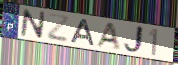1: (148, 28, 159, 57)
A: (69, 18, 97, 47), (93, 22, 121, 51)
J: (122, 24, 146, 55)
N: (19, 8, 47, 41)
Z: (46, 12, 71, 44)
